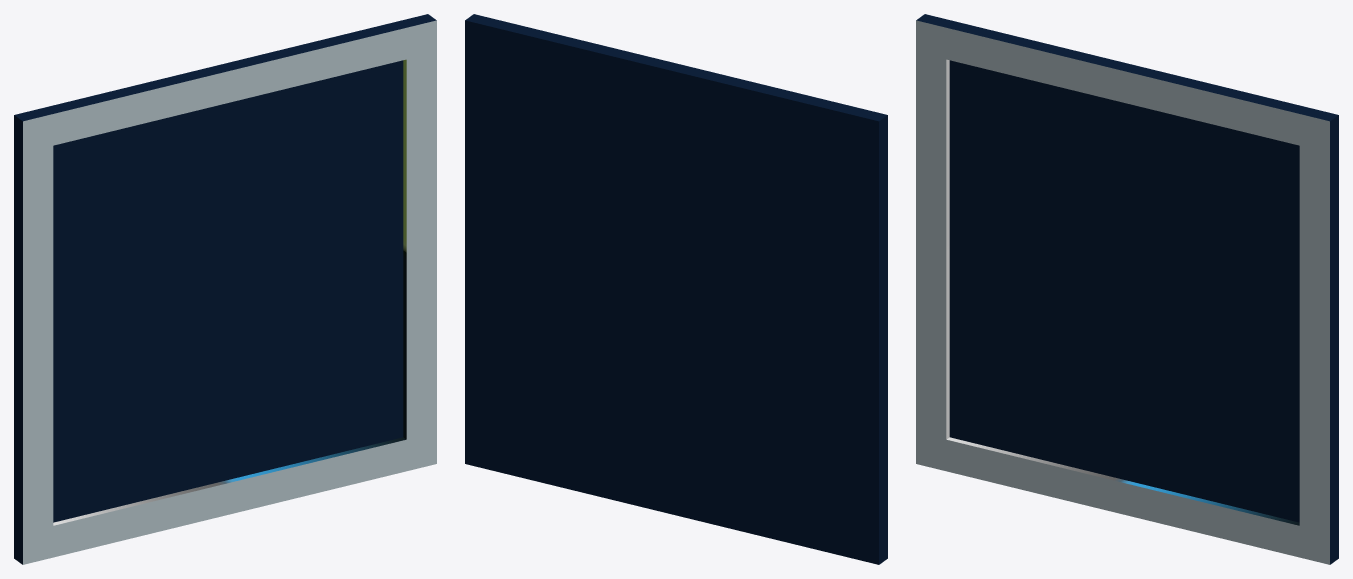
File: _SM_Env_WallFrame.fbx
3 views of the same model, side by side, from view 1: azimuth 30°, elevation 25°; view 2: azimuth 150°, elevation 25°; view 3: azimuth 330°, elevation 25° (orthographic).
Visible parts, largest first — view 1: SM_Env_WallFrame; view 2: SM_Env_WallFrame; view 3: SM_Env_WallFrame.
Part boxes in pixels (left/top/right/bottom): SM_Env_WallFrame: left=14, top=14, right=436, bottom=564; SM_Env_WallFrame: left=465, top=14, right=887, bottom=564; SM_Env_WallFrame: left=916, top=14, right=1338, bottom=564.
Bounding box in the file's own units: 0.6496 × 0.6652 × 0.0237.
